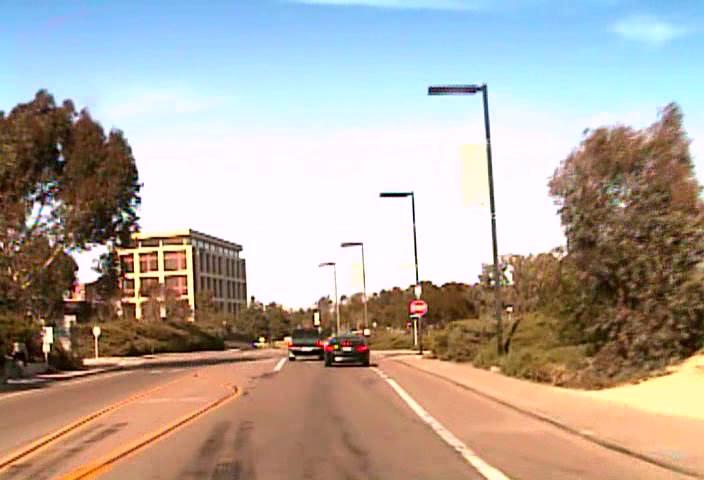stop: (409, 298, 427, 316)
